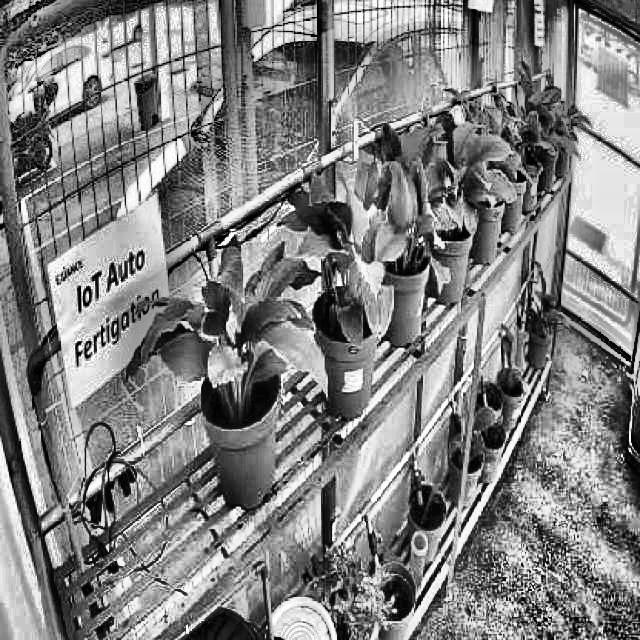plants: (126, 236, 328, 414), (286, 176, 394, 352), (353, 128, 452, 298), (414, 104, 520, 230)
